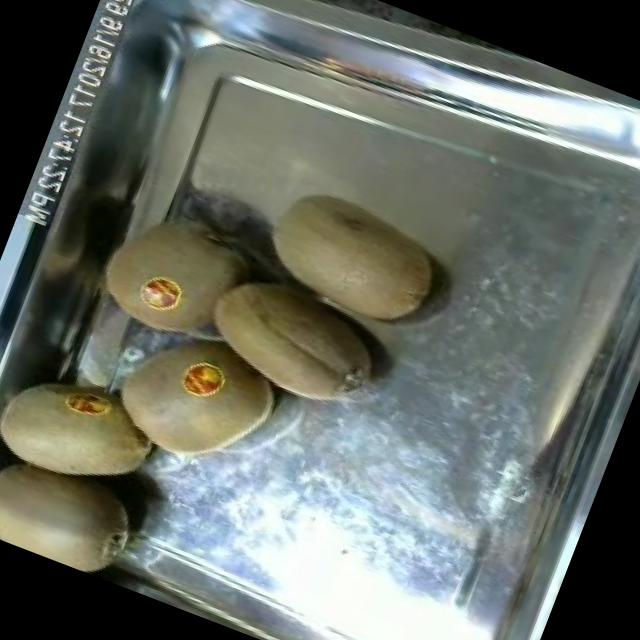Fruit: (184, 248, 403, 430), (244, 170, 459, 353), (90, 323, 292, 494), (0, 342, 178, 505), (0, 435, 158, 588)
